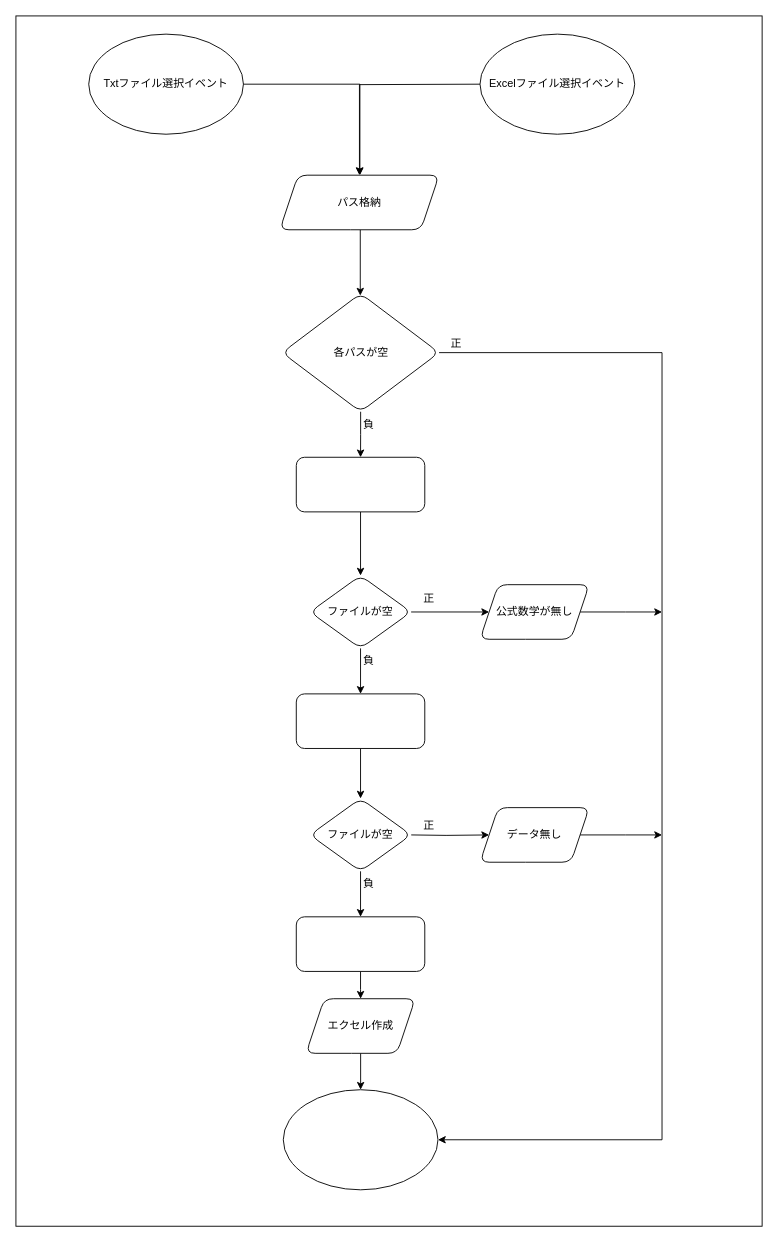
The diagram is 778 pixels wide and 1242 high, and some of its shapes have lost their labels. The box of each missing label's shape, as (x1, y1, x2, y2) in pixels:
Excelファイルを読み取り: (295, 693, 425, 748)
Txtファイルを読み取り: (295, 456, 425, 512)
清算: (295, 916, 425, 971)
終了: (282, 1089, 438, 1190)
